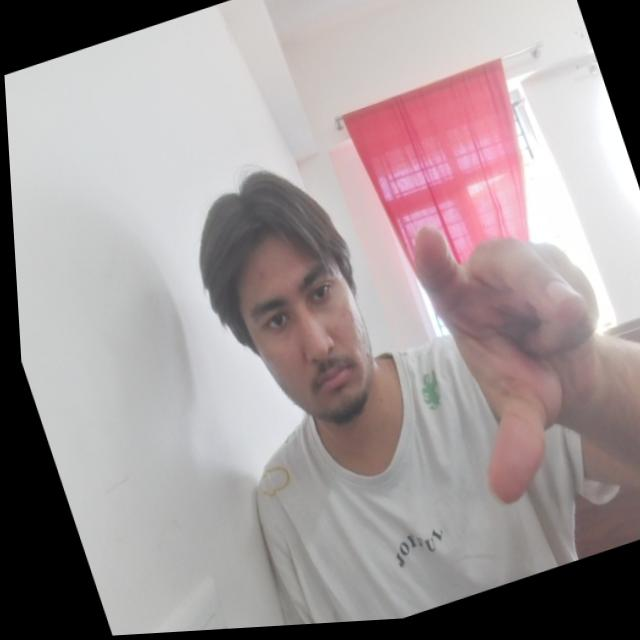no: (390, 170, 640, 526)
